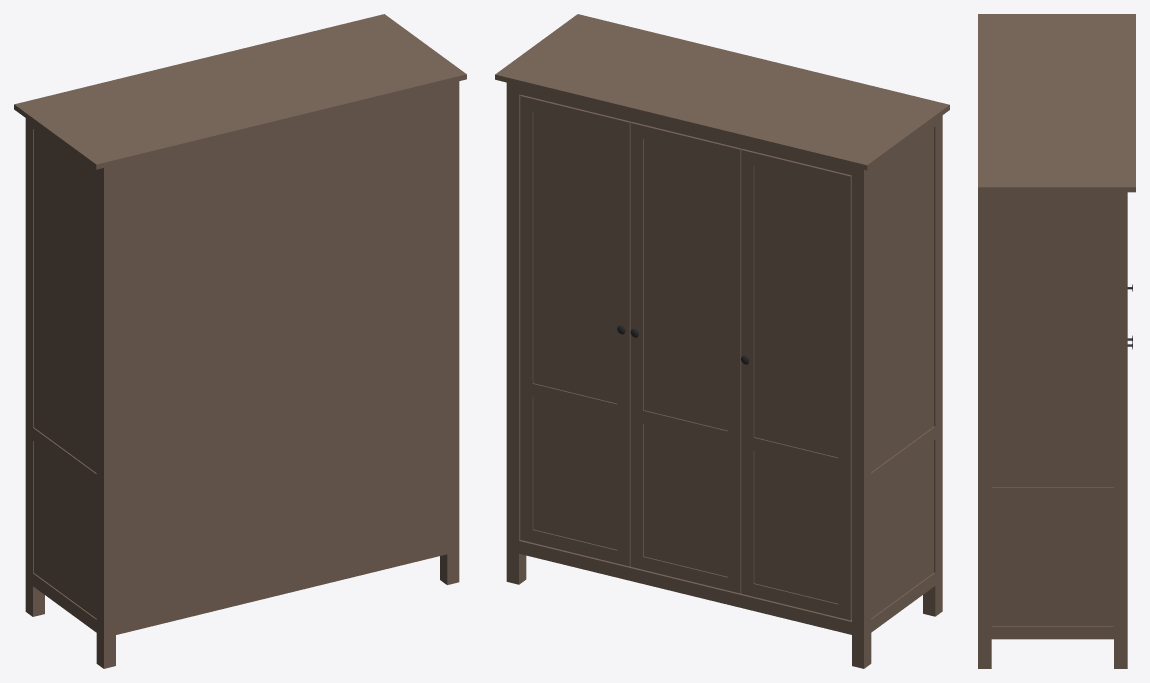
3 views of the same model, side by side, from view 1: azimuth 30°, elevation 25°; view 2: azimuth 150°, elevation 25°; view 3: azimuth 270°, elevation 25° (orthographic). The views are drawn at different scales.
Visible parts, largest first — view 1: Mesh1 Group1 Model; view 2: Mesh1 Group1 Model, Mesh5 Component_10_2 Model, Mesh3 Component_10_1 Model, Mesh7 Component_10_3 Model; view 3: Mesh1 Group1 Model.
Part boxes in pixels (x1,y1,x2,y2): Mesh1 Group1 Model: (14, 14, 466, 668); Mesh1 Group1 Model: (495, 14, 949, 668); Mesh5 Component_10_2 Model: (630, 122, 741, 593); Mesh3 Component_10_1 Model: (520, 95, 631, 566); Mesh7 Component_10_3 Model: (741, 149, 851, 620); Mesh1 Group1 Model: (978, 14, 1135, 668).
Size of the model in its own units: 0.592 by 0.7731 by 0.2279.
